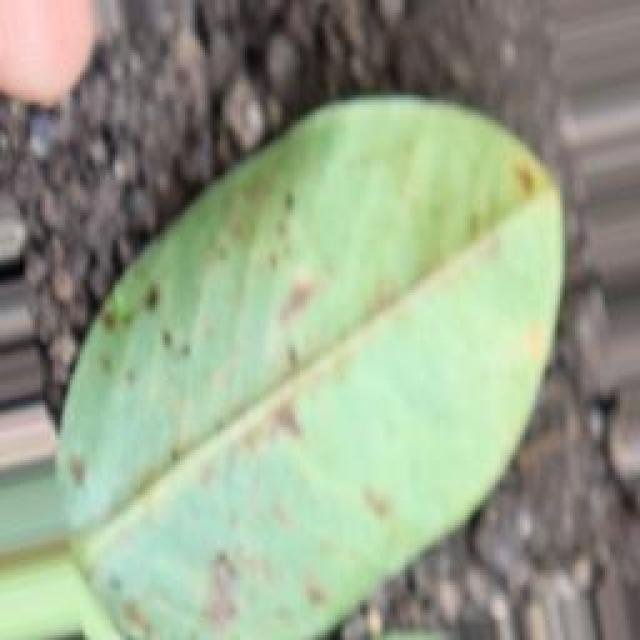Whitefly: (105, 149, 568, 636)
